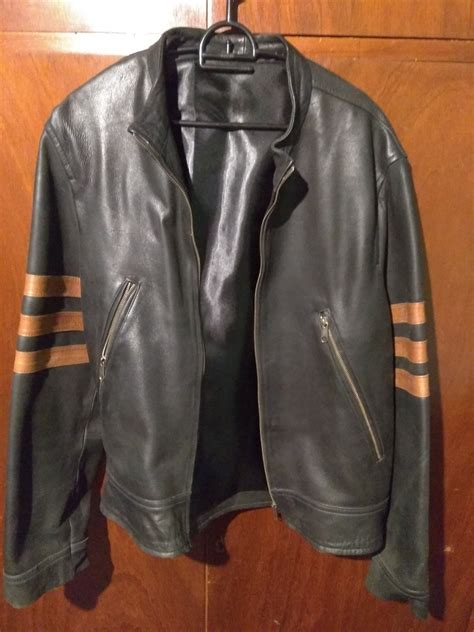cuero: (7, 26, 436, 620)
